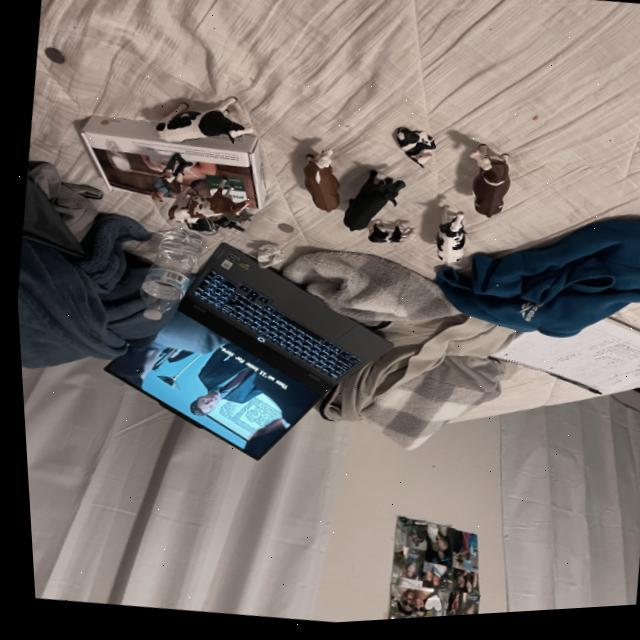cow: (335, 168, 404, 248), (154, 100, 251, 146), (162, 181, 247, 229), (467, 148, 510, 225), (297, 153, 341, 219), (384, 122, 439, 174), (428, 209, 468, 273), (365, 225, 411, 248), (158, 171, 184, 197)
person: (145, 178, 178, 210)
